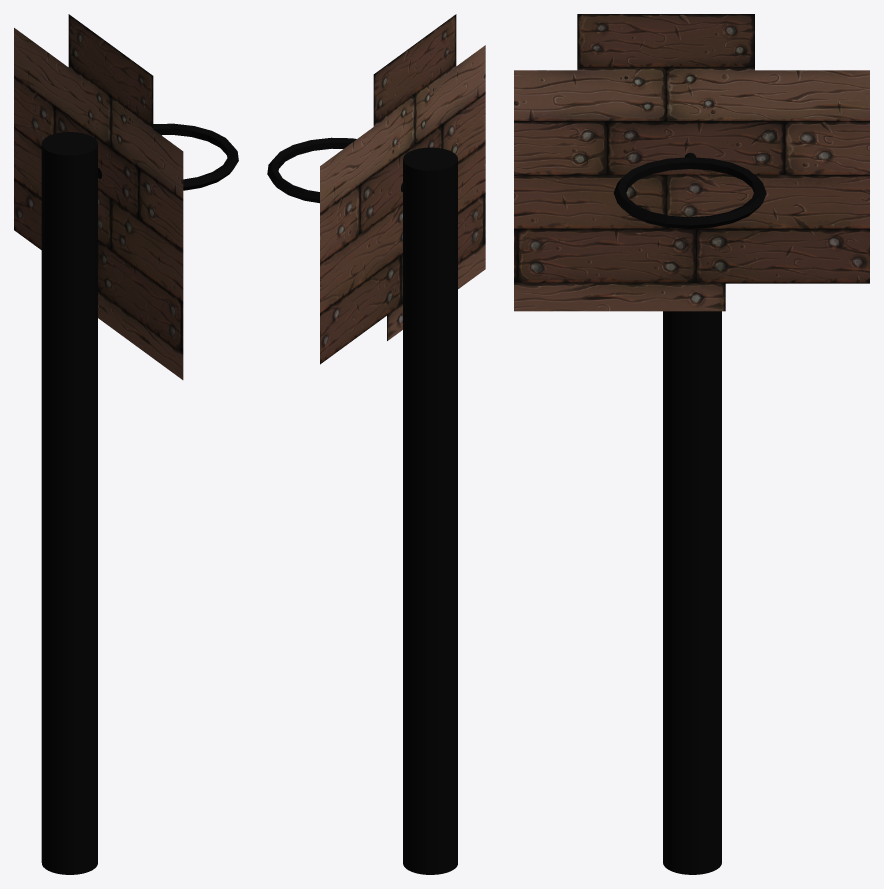
Rendered from basket.fbx.
3 renders of one model, left to right at view 1: azimuth 30°, elevation 25°; view 2: azimuth 150°, elevation 25°; view 3: azimuth 270°, elevation 25°, orthographic. The views are drawn at different scales.
Parts seen in each view (by area): view 1: Cylinder; view 2: Cylinder; view 3: Cylinder.
Boxes of the visible parts, x1,y1,x2,y2 form: Cylinder: (14,14,238,874); Cylinder: (267,14,485,874); Cylinder: (514,14,869,874).
Bounding box in the file's own units: 750 × 3216 × 1202.
